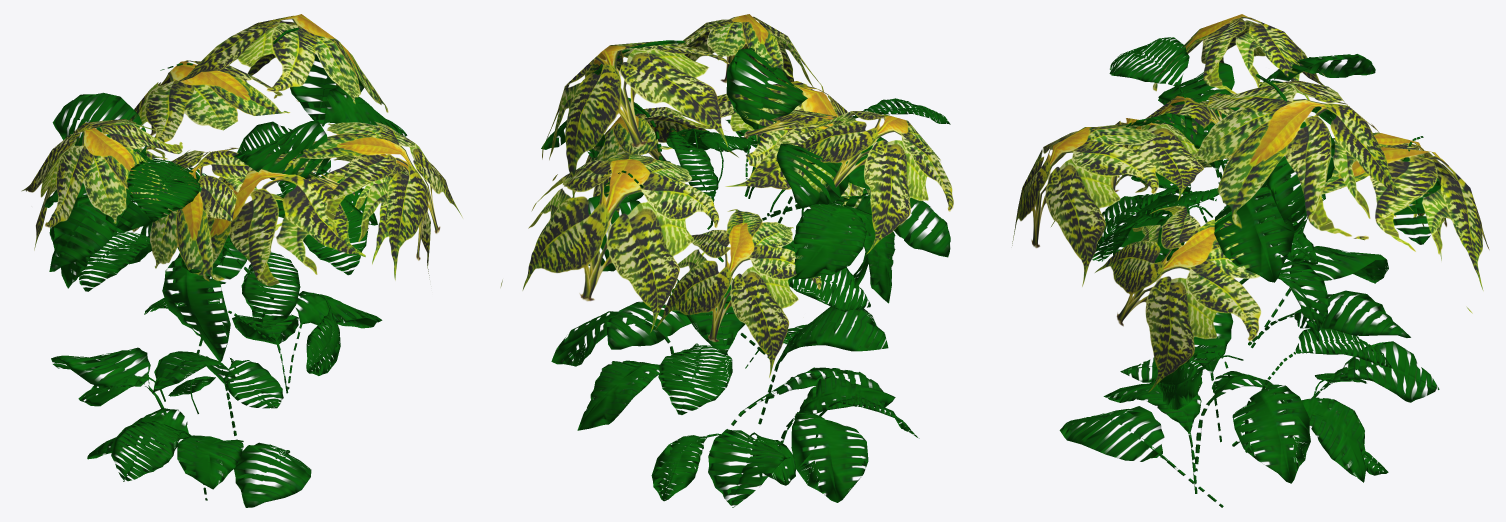
File: lowpolyworld.leaves.glb
The picture shows the model from 3 angles, left to right: view 1: azimuth 30°, elevation 25°; view 2: azimuth 150°, elevation 25°; view 3: azimuth 270°, elevation 25°; orthographic projection. The views are drawn at different scales.
Visible parts, largest first — view 1: leaves.014, leaves.016, leaves.011, leaves.012, leaves.009, leaves.015, leaf_010_mesh.010, leaf_010_mesh.024, leaf_010_mesh.001, leaf_010_mesh.004, leaf_010_mesh.021, leaf_010_mesh.012 (+22 smaller); view 2: leaves.009, leaves.013, leaves.012, leaves.011, leaf_010_mesh.028, leaf_010_mesh.019, leaves.014, leaf_010_mesh.004, leaf_010_mesh.022, leaf_010_mesh.029, leaves.015, leaf_010_mesh.023 (+22 smaller); view 3: leaves.012, leaves.010, leaves.014, leaves.009, leaf_010_mesh.038, leaves.011, leaf_010_mesh.002, leaf_010_mesh.024, leaf_010_mesh.037, leaves.016, leaf_010_mesh.022, leaf_010_mesh.033 (+21 smaller).
Part boxes in pixels (x1,y1,x2,y2): leaves.014: (293, 121, 462, 280); leaves.016: (202, 152, 365, 286); leaves.011: (21, 119, 182, 227); leaves.012: (160, 14, 388, 112); leaves.009: (129, 60, 298, 149); leaves.015: (132, 147, 286, 280); leaf_010_mesh.010: (162, 240, 232, 361); leaf_010_mesh.024: (234, 442, 311, 507); leaf_010_mesh.001: (126, 159, 200, 221); leaf_010_mesh.004: (233, 121, 330, 183); leaf_010_mesh.021: (111, 421, 198, 481); leaf_010_mesh.012: (241, 251, 300, 330); leaves.009: (500, 152, 719, 332); leaves.013: (655, 209, 821, 377); leaves.012: (542, 41, 729, 197); leaves.011: (767, 111, 953, 254); leaf_010_mesh.028: (791, 411, 868, 502); leaf_010_mesh.019: (792, 202, 866, 279); leaves.014: (678, 14, 823, 91); leaf_010_mesh.004: (726, 48, 807, 196); leaf_010_mesh.022: (708, 429, 790, 507); leaf_010_mesh.029: (658, 343, 732, 414); leaves.015: (725, 110, 870, 207); leaf_010_mesh.023: (758, 302, 888, 424); leaves.012: (1191, 81, 1413, 236); leaves.010: (1095, 205, 1261, 392); leaves.014: (1012, 123, 1162, 286); leaves.009: (1321, 146, 1489, 313); leaf_010_mesh.038: (1232, 384, 1310, 483); leaves.011: (1153, 14, 1325, 108); leaf_010_mesh.002: (1214, 181, 1294, 282); leaf_010_mesh.024: (1059, 406, 1223, 507); leaf_010_mesh.037: (1232, 397, 1365, 482); leaves.016: (1051, 118, 1230, 226); leaf_010_mesh.022: (1289, 341, 1439, 437); leaf_010_mesh.033: (1248, 290, 1410, 345).
Bounding box in the file's own units: 9.66 × 10.31 × 10.02.
Materials: 3 (3 with a texture image).
